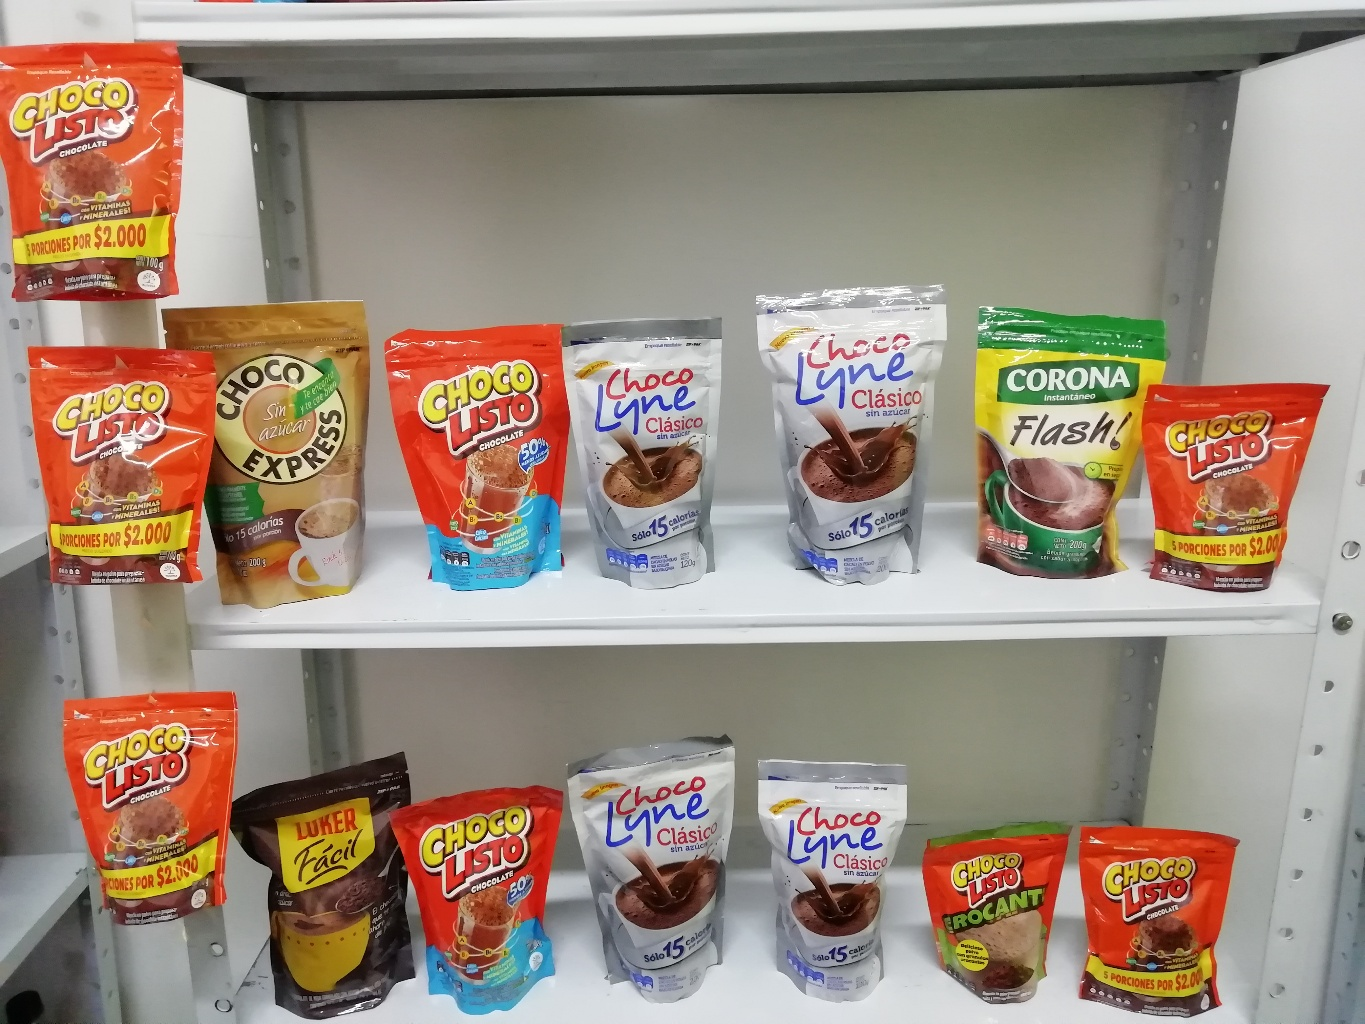COL0170102DYP10000: (925, 805, 1069, 1010)
COL0170104DYP20000: (374, 326, 581, 600)
